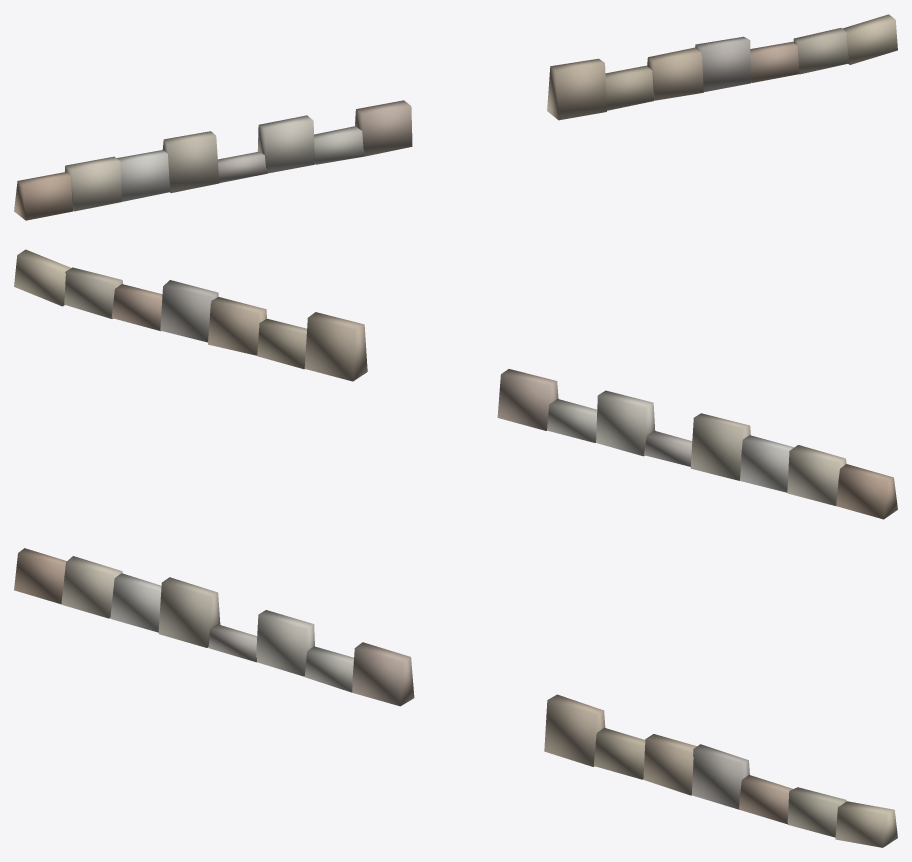
File: farm_14_3_far.glb
The picture shows the model from 3 angles, top to bottom: view 1: azimuth 30°, elevation 25°; view 2: azimuth 150°, elevation 25°; view 3: azimuth 330°, elevation 25°; orthographic projection. The views are drawn at different scales.
Visible parts, largest first — view 1: geometry_0; view 2: geometry_0; view 3: geometry_0.
Boxes of the visible parts, box(x1,y1,x2,y2) form: geometry_0: box(14, 14, 897, 220); geometry_0: box(14, 249, 897, 519); geometry_0: box(14, 548, 897, 847).
Bounding box in the file's own units: 28.37 × 1.98 × 2.55.
